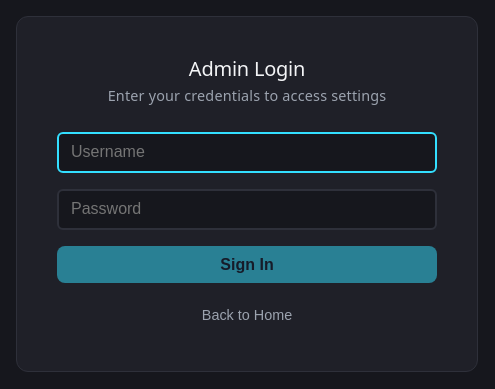
AdminLogin › submit button is enabled when both fields have values
The width and height of the screenshot is (495, 389).
Step 1. Type "admin" into the field with placeholder "Username" → (247, 152), box x1=57 y1=132 x2=437 y2=173
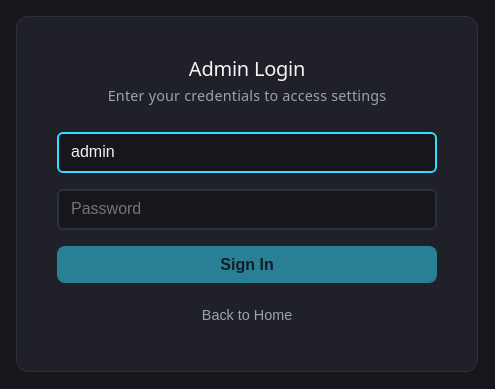
Step 2. Type "secret" into the password field with placeholder "Password" → (247, 209), box x1=57 y1=189 x2=437 y2=230
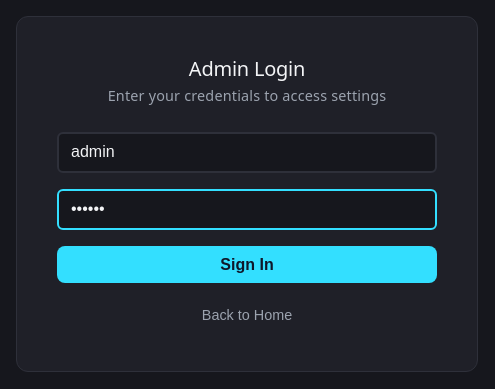
expect the button "Sign In" is enabled: met, box x1=57 y1=246 x2=437 y2=283
